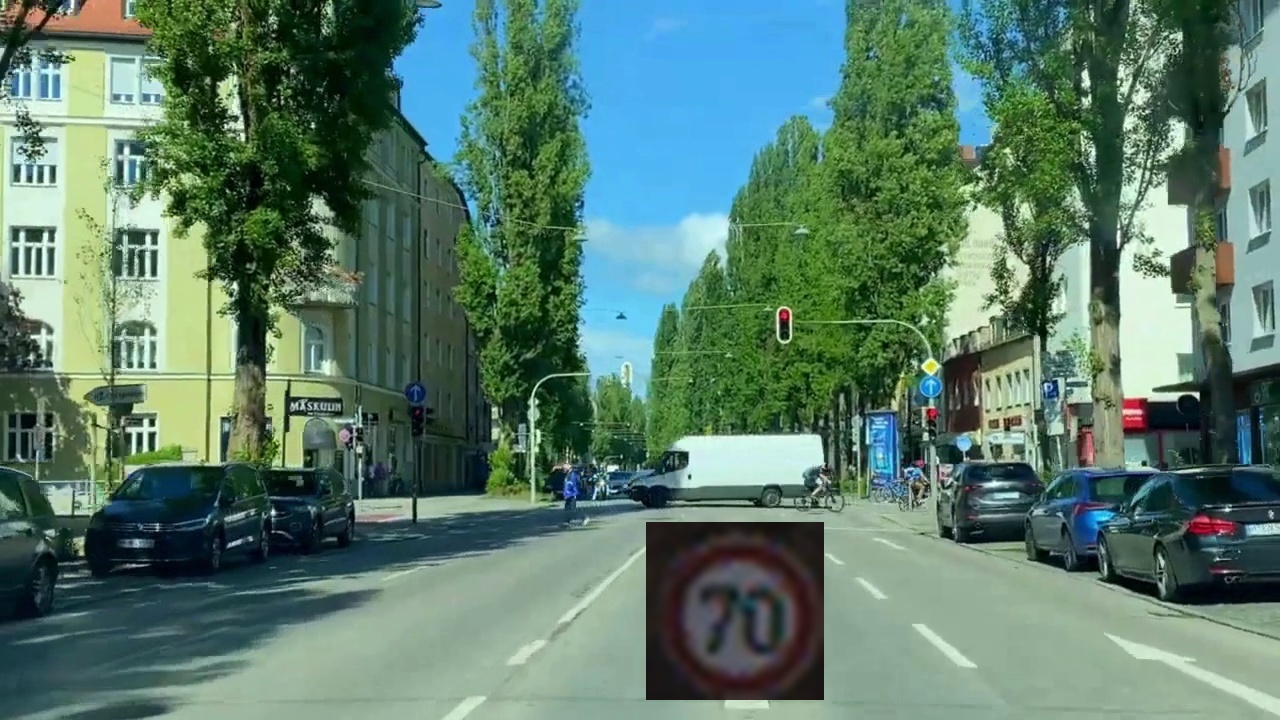Speed 70: (646, 522, 824, 700)
